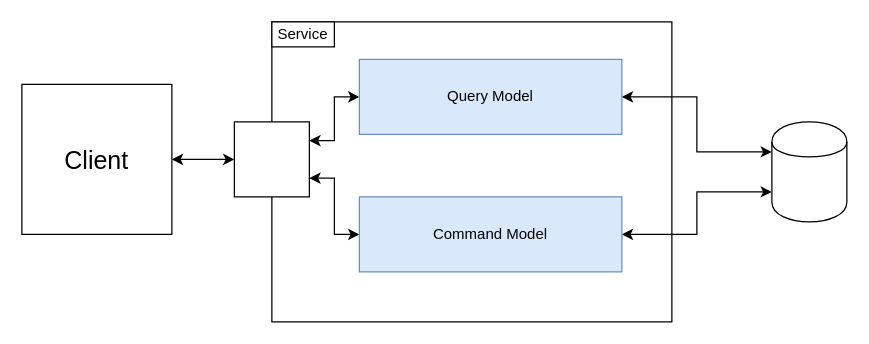
Image size: 869x344. Some labels were removed from this diagram. Here are the shapes that lost their labels. From the top down, the centre of each, then its label:
At point 271,159: "Service Interface".
At point 809,171: "Source".
